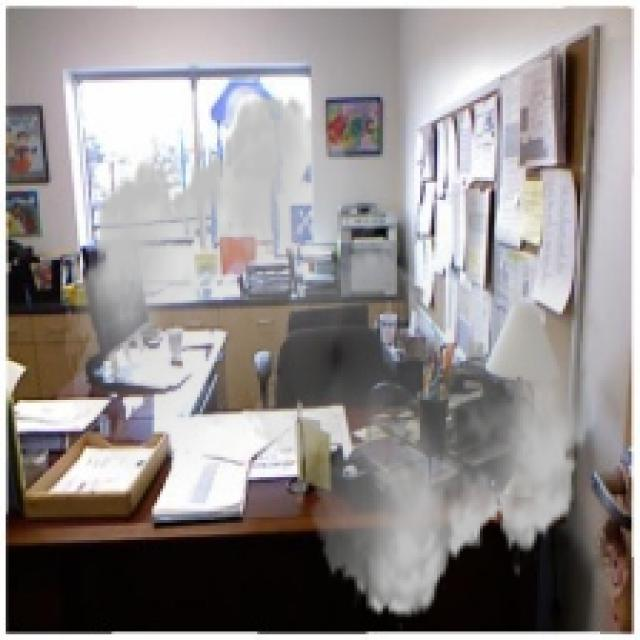smoke: (65, 77, 606, 634)
